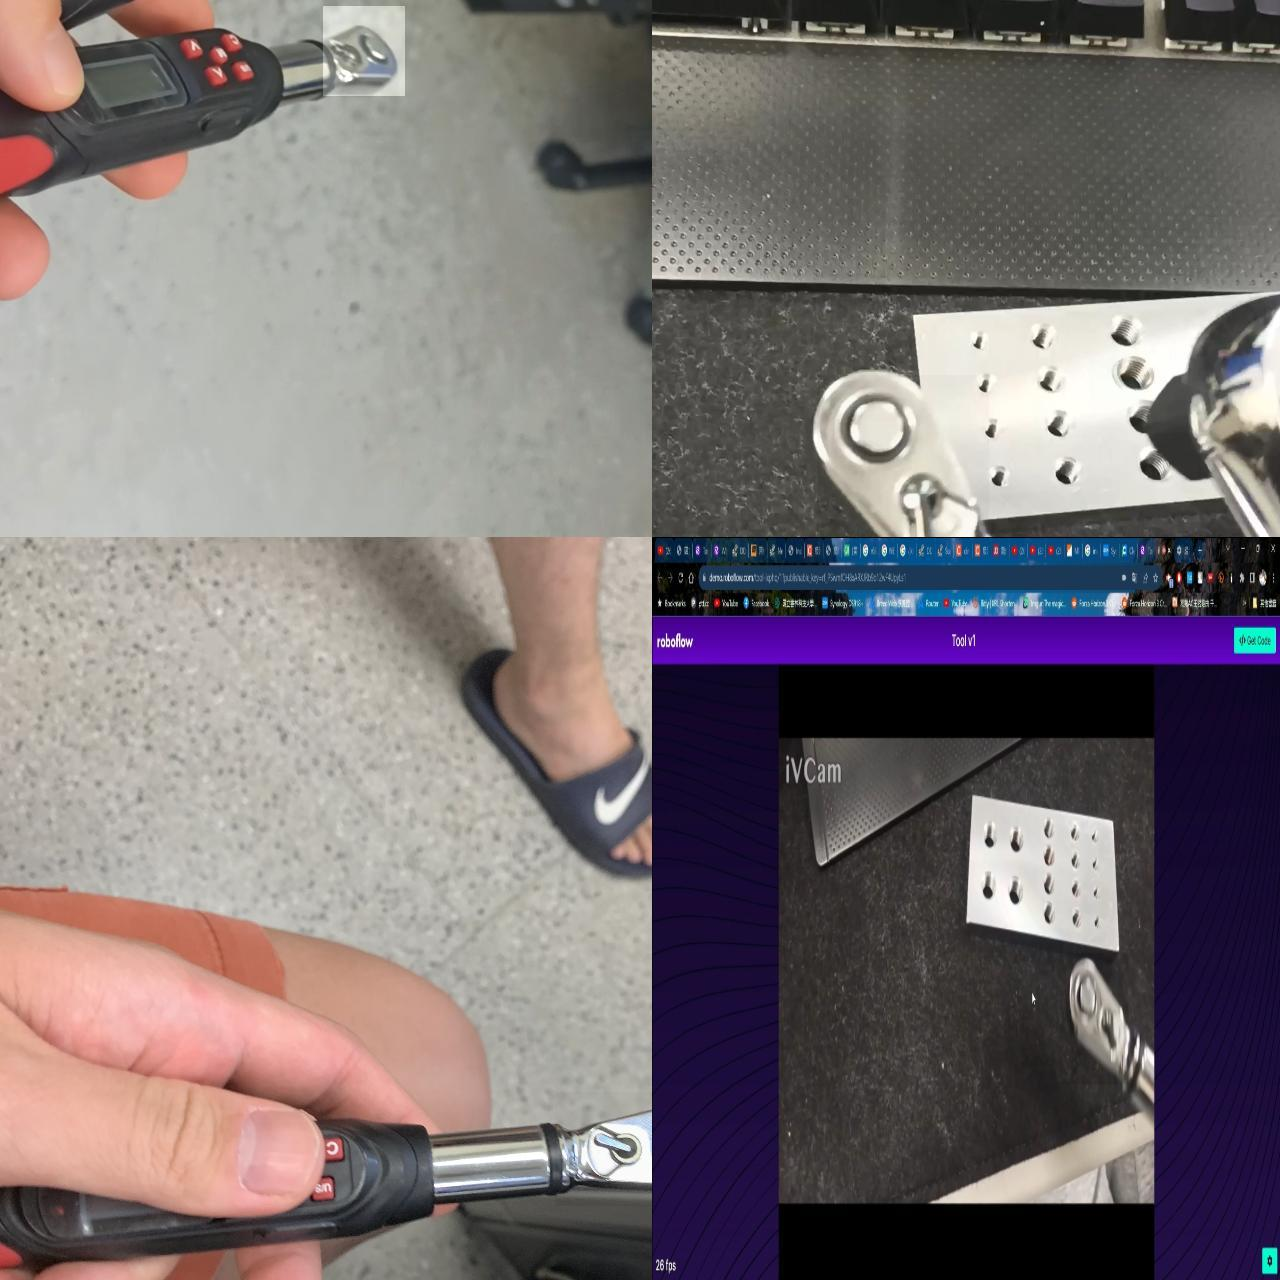Tool: (816, 374, 988, 537), (554, 1091, 652, 1205), (1069, 951, 1128, 1084), (322, 5, 404, 95)
